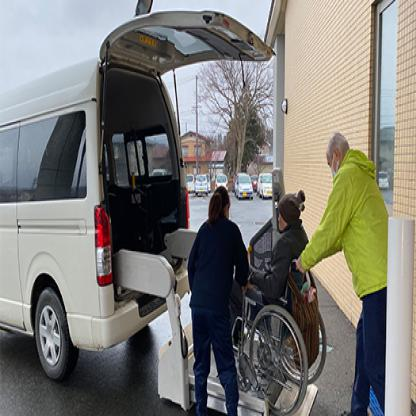wheelchair: (236, 187, 329, 415)
